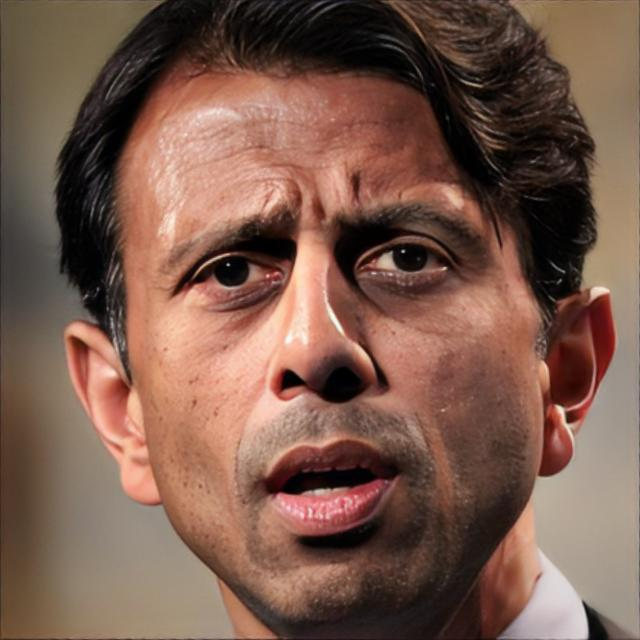anger: (128, 54, 548, 632)
